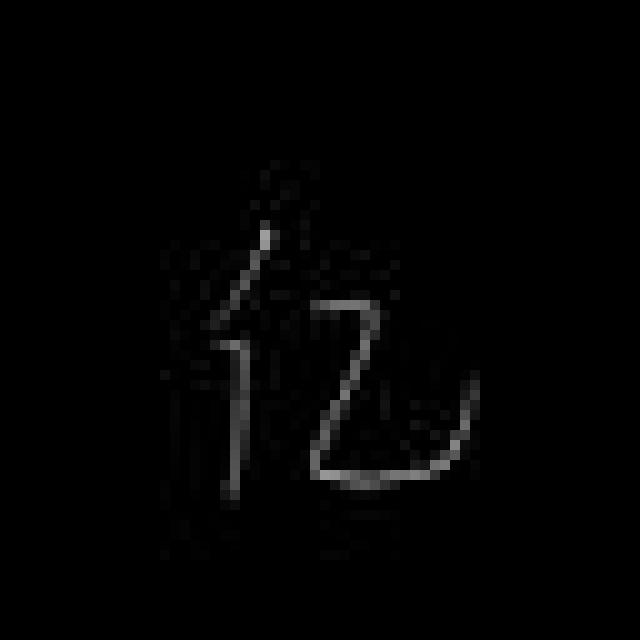100000 -a hundred thousand-: (174, 210, 490, 508)
